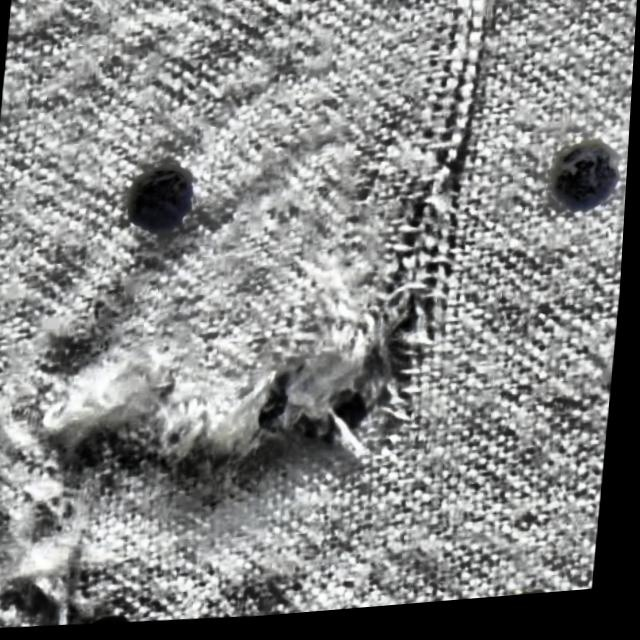Stitch: (304, 0, 575, 477), (9, 312, 316, 499), (0, 368, 134, 622), (1, 546, 125, 638)
